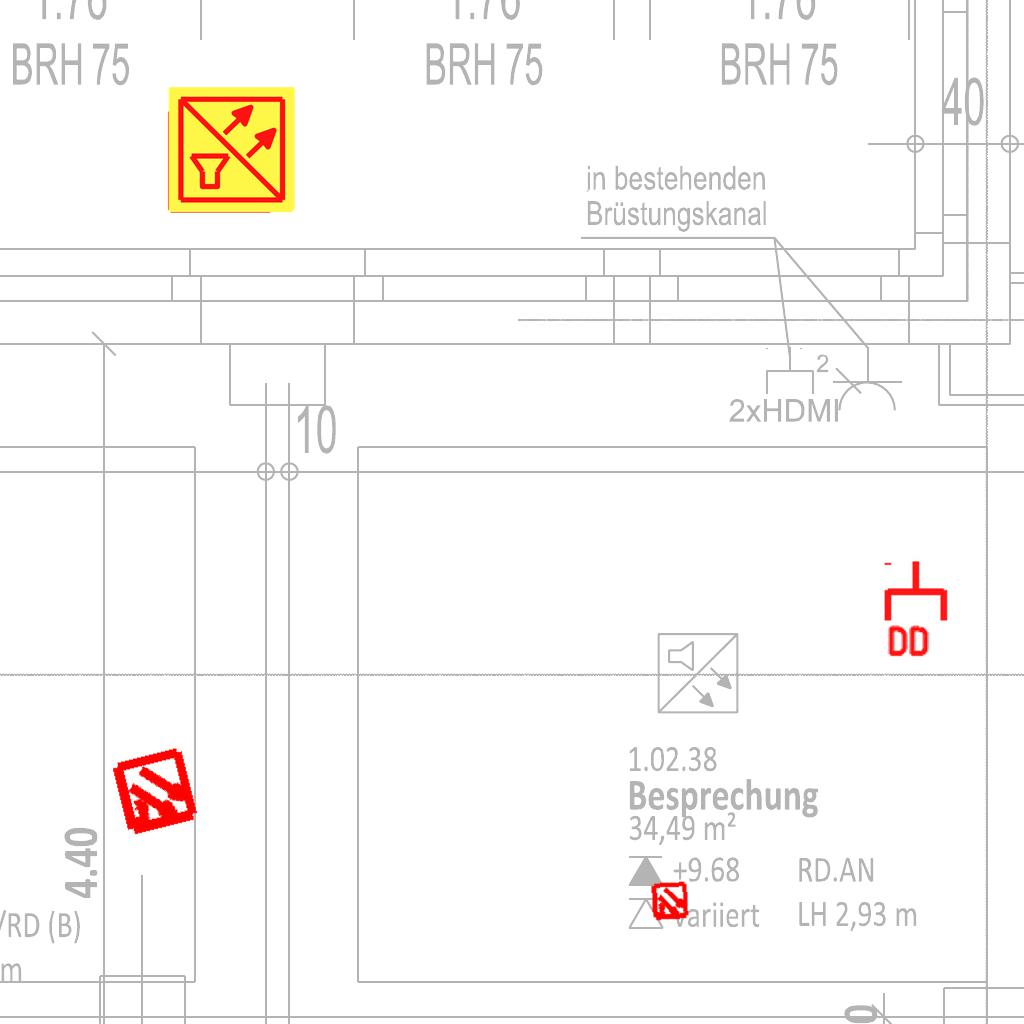Datenanschluss_zweifach: (883, 558, 952, 661)
OKW_Multisensormelder_(Kombination_optischer_Rauch-Kahlenmonoxid_Waerme-Melder): (166, 84, 298, 216)
OT_Multisensormelder_(Kombination_RMO_WMD): (87, 725, 224, 862), (640, 872, 700, 932)
